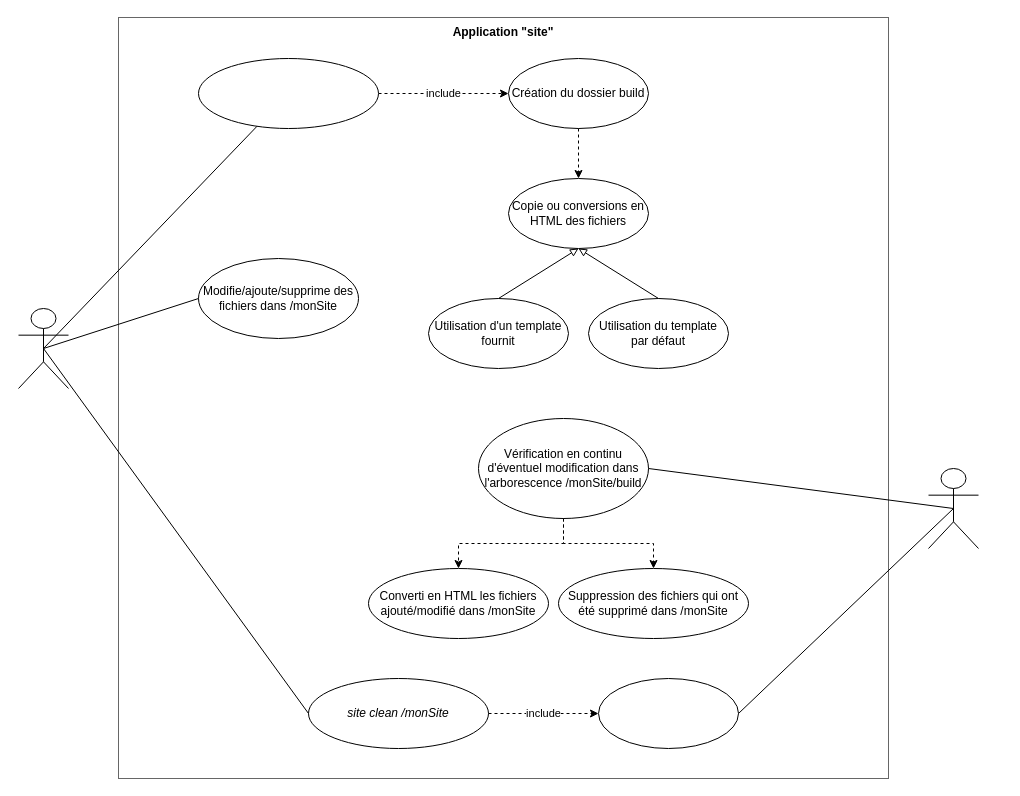
Some shapes in this 1020 by 796 pixel diagram are drawn without their labels. The box of each missing label's shape, as (x1, y1, x2, y2) in pixels:
site build /monSite --watcher: (198, 58, 378, 128)
Suppression du dossier build: (598, 678, 738, 748)
Système de fichier: (928, 468, 978, 548)
Utilisateur: (18, 308, 68, 388)
